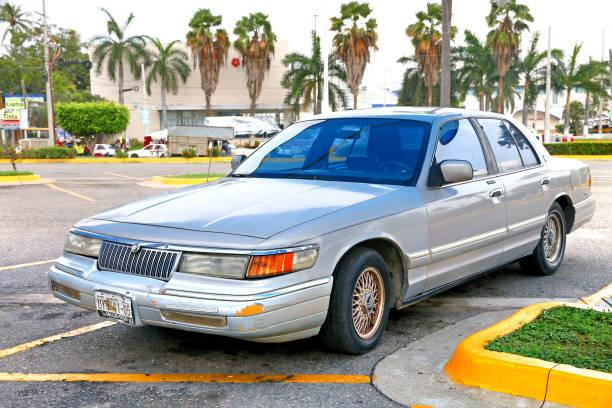Mercury: (130, 239, 157, 259)
